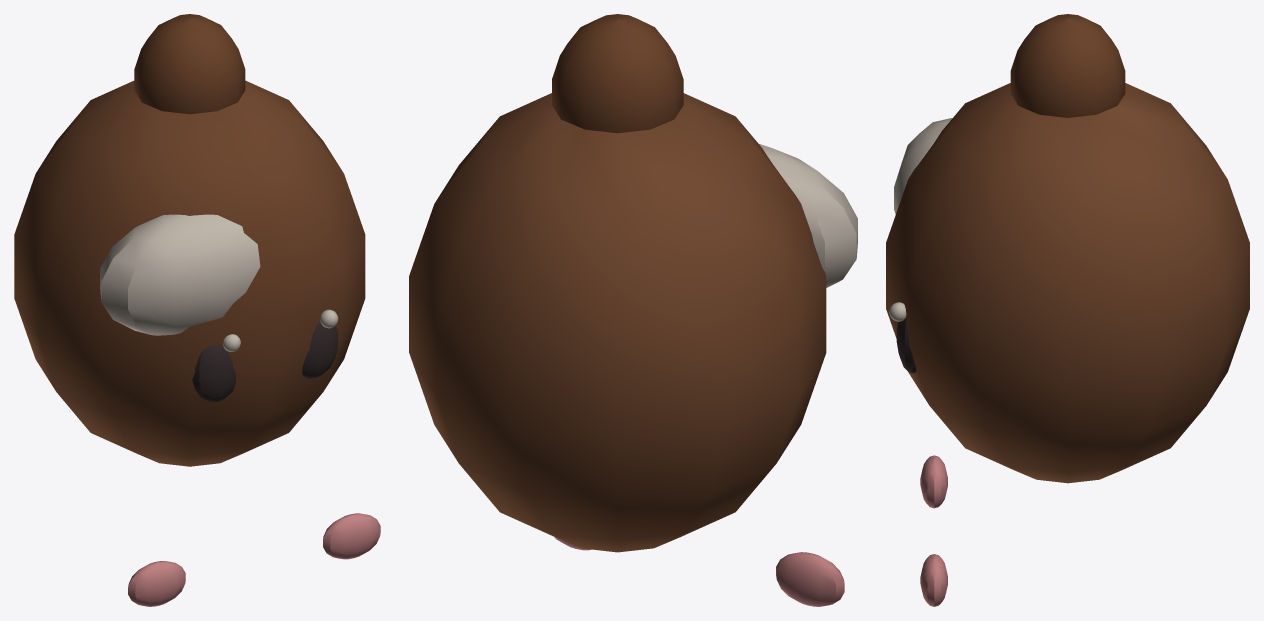
File: p62dec475.glb
3 views of the same model, side by side, from view 1: azimuth 30°, elevation 25°; view 2: azimuth 150°, elevation 25°; view 3: azimuth 270°, elevation 25° (orthographic). The views are drawn at different scales.
Visible parts, largest first — view 1: pet_p62dec475; view 2: pet_p62dec475; view 3: pet_p62dec475.
Part boxes in pixels (left/top/right/bottom): pet_p62dec475: left=14, top=14, right=380, bottom=606; pet_p62dec475: left=409, top=14, right=857, bottom=606; pet_p62dec475: left=886, top=14, right=1249, bottom=606.
Bounding box in the file's own units: 0.3742 × 0.6072 × 0.3742.
